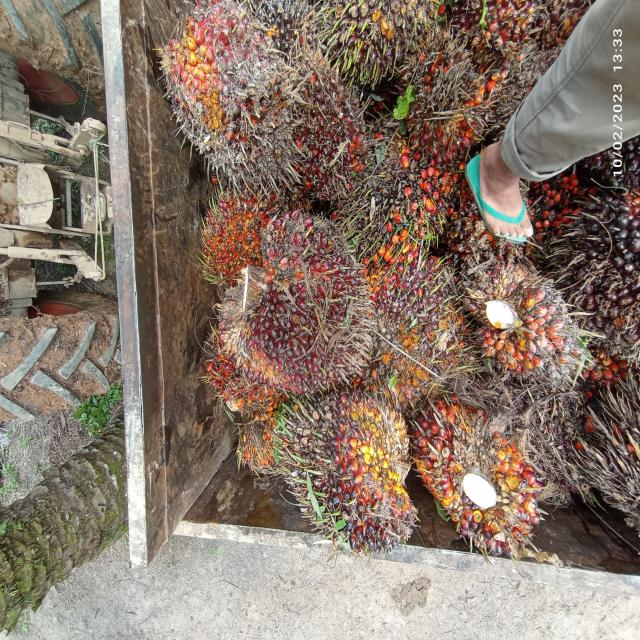fraksi 00: (271, 374, 422, 576)
fraksi 1: (199, 193, 403, 431), (377, 232, 467, 411), (280, 44, 373, 208)
fraksi 3: (156, 0, 297, 192)
fraksi 4: (182, 175, 278, 308)
